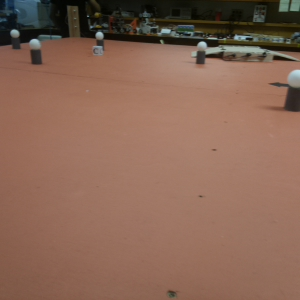obstacle: (285, 68, 300, 111), (195, 42, 208, 66), (29, 39, 41, 64), (95, 31, 105, 53), (10, 29, 19, 50)
side: (224, 52, 271, 64)
slope: (193, 42, 224, 63), (270, 49, 296, 64)
